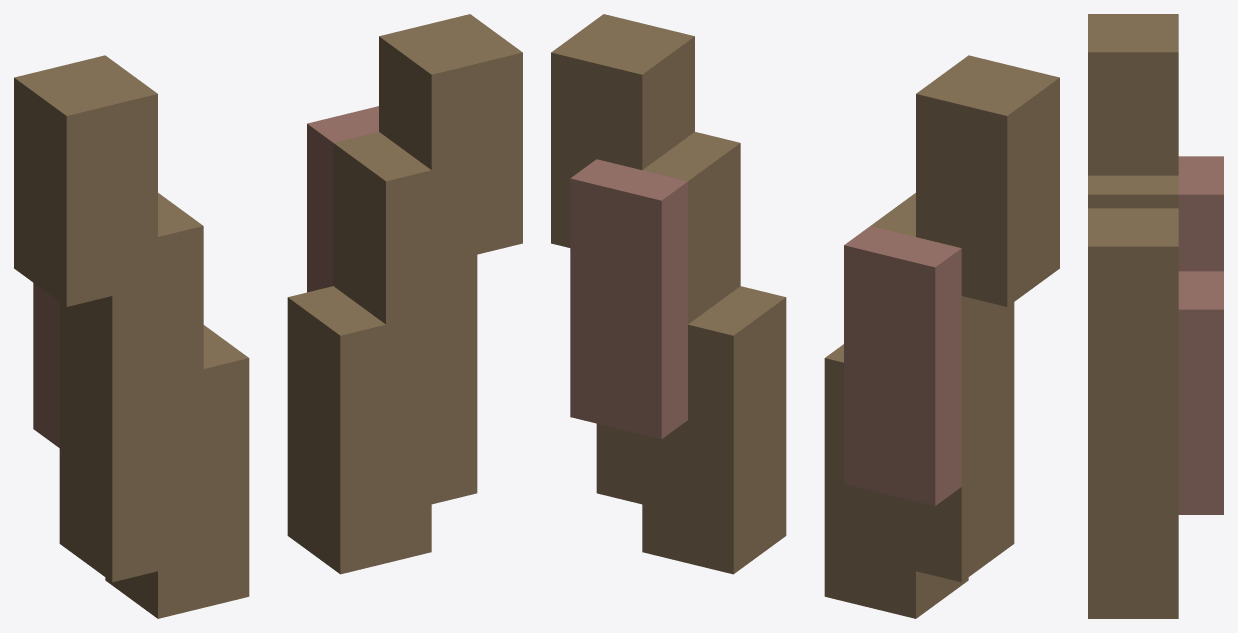
Rendered from ears.glb.
3 views of the same model, side by side, from view 1: azimuth 30°, elevation 25°; view 2: azimuth 150°, elevation 25°; view 3: azimuth 270°, elevation 25° (orthographic). The views are drawn at different scales.
Parts seen in each view (by area): view 1: VoxelVisual; view 2: VoxelVisual; view 3: VoxelVisual.
Boxes of the visible parts, x1,y1,x2,y2 form: VoxelVisual: (14,14,522,618); VoxelVisual: (551,14,1059,618); VoxelVisual: (1088,14,1223,618).
Size of what is drawn, in the model's own units: 0.625 by 0.6875 by 0.1875.
